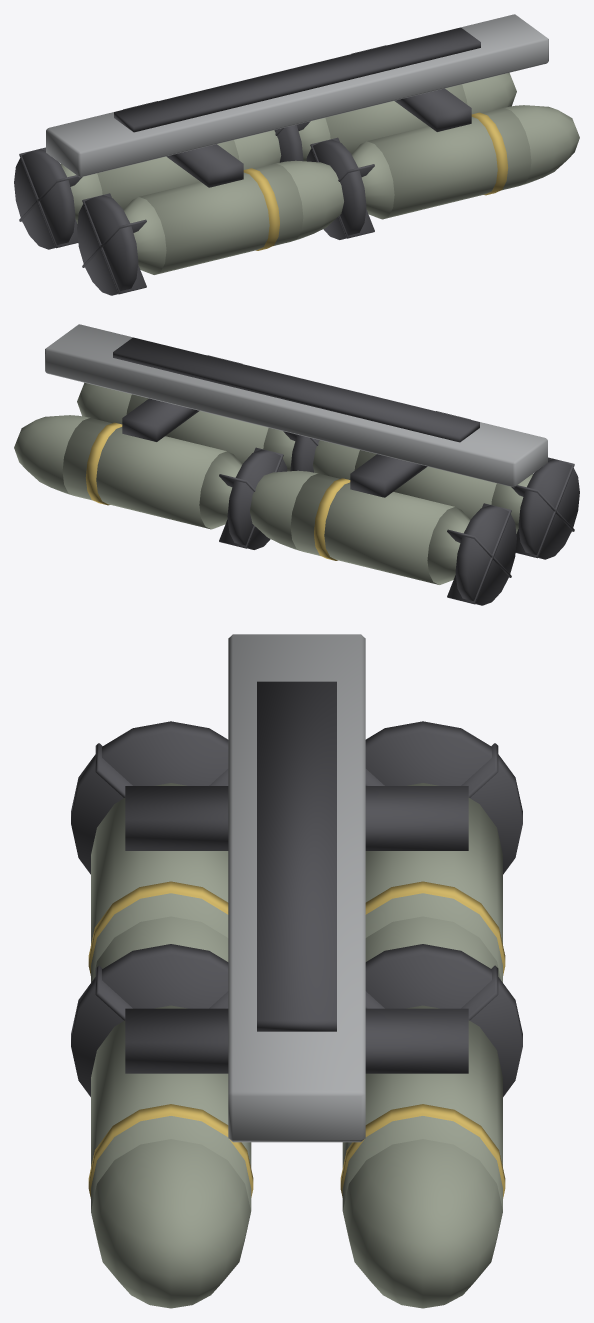
The model's file is bombs_2.glb.
3 views of the same model, one above another, from view 1: azimuth 30°, elevation 25°; view 2: azimuth 150°, elevation 25°; view 3: azimuth 270°, elevation 25° (orthographic). The views are drawn at different scales.
Parts seen in each view (by area): view 1: bombs_2; view 2: bombs_2; view 3: bombs_2.
Boxes of the visible parts, x1,y1,x2,y2 form: bombs_2: [14, 14, 579, 295]; bombs_2: [14, 324, 579, 605]; bombs_2: [71, 634, 522, 1308].
Size of the model in its own units: 0.976 by 0.2635 by 0.395.
